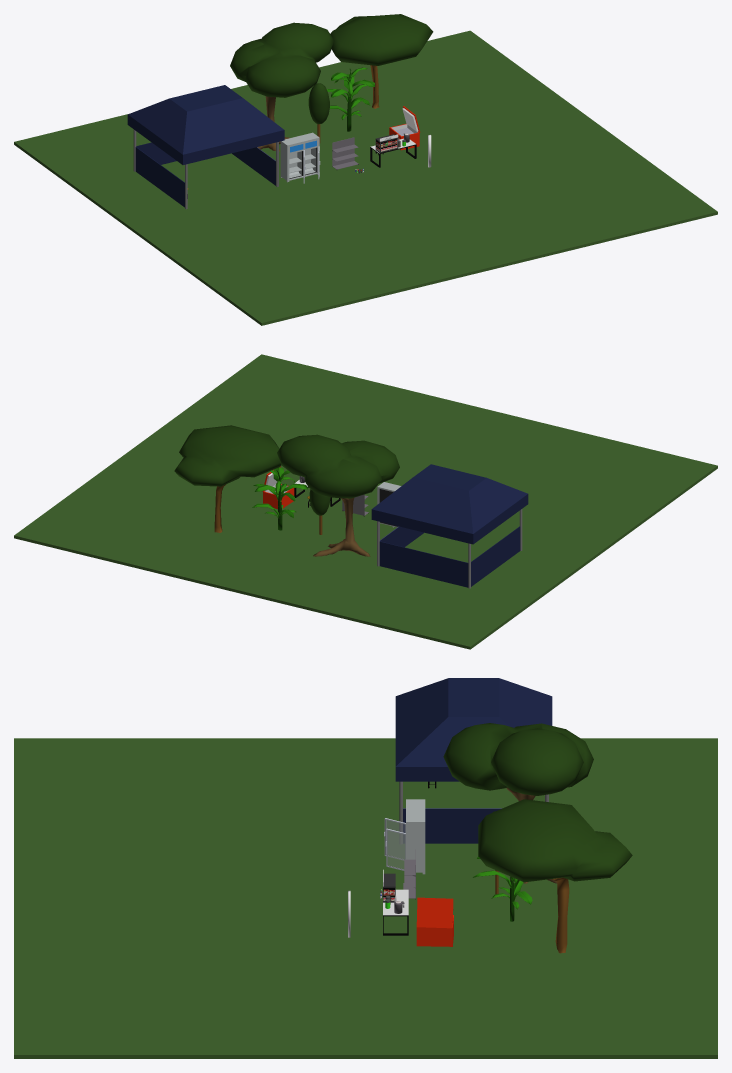
File: Asset_Pack1.fbx
The picture shows the model from 3 angles, top to bottom: view 1: azimuth 30°, elevation 25°; view 2: azimuth 150°, elevation 25°; view 3: azimuth 270°, elevation 25°; orthographic projection. The views are drawn at different scales.
Parts seen in each view (by area): view 1: Ground, Tent, Tree3, Tree1, Tent_Cover, Fridge, Kluay, Tree2, Container; view 2: Ground, Tent, Tree3, Tree1, Tent_Cover, Kluay; view 3: Ground, Tree1, Tent, Tree3, Tent_Cover, Fridge, Box_Can.001, Fridge_R, Fridge_L, Box, Kluay.
Part boxes in pixels (x1,y1,x2,y2): Ground: [14, 30, 717, 325]; Tent: [127, 85, 284, 209]; Tree3: [230, 22, 334, 151]; Tree1: [330, 14, 433, 108]; Tent_Cover: [135, 142, 275, 207]; Fridge: [280, 132, 319, 182]; Kluay: [326, 67, 374, 131]; Tree2: [308, 83, 329, 143]; Container: [332, 137, 358, 169]; Ground: [14, 354, 717, 649]; Tent: [371, 464, 528, 588]; Tree3: [277, 434, 399, 556]; Tree1: [174, 425, 281, 532]; Tent_Cover: [379, 526, 520, 587]; Kluay: [252, 467, 307, 530]; Ground: [14, 738, 717, 1058]; Tree1: [478, 799, 632, 953]; Tent: [395, 678, 552, 843]; Tree3: [443, 723, 593, 883]; Tent_Cover: [403, 808, 501, 843]; Fridge: [406, 799, 425, 874]; Box_Can.001: [416, 897, 453, 928]; Fridge_R: [385, 828, 405, 870]; Fridge_L: [384, 818, 405, 860]; Box: [416, 915, 453, 946]; Kluay: [473, 856, 532, 921].
Size of the model in its own units: 26.86 by 6.71 by 25.25.
62 materials, 1 textured.
